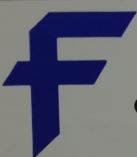Fisher: (1, 9, 136, 157)
